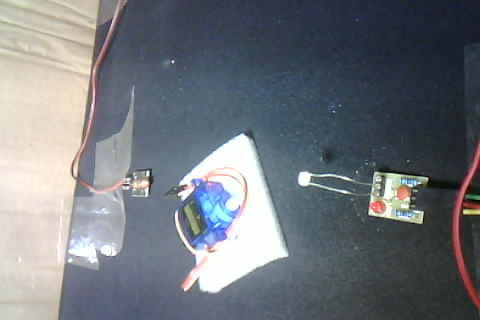motor: (158, 155, 259, 297)
